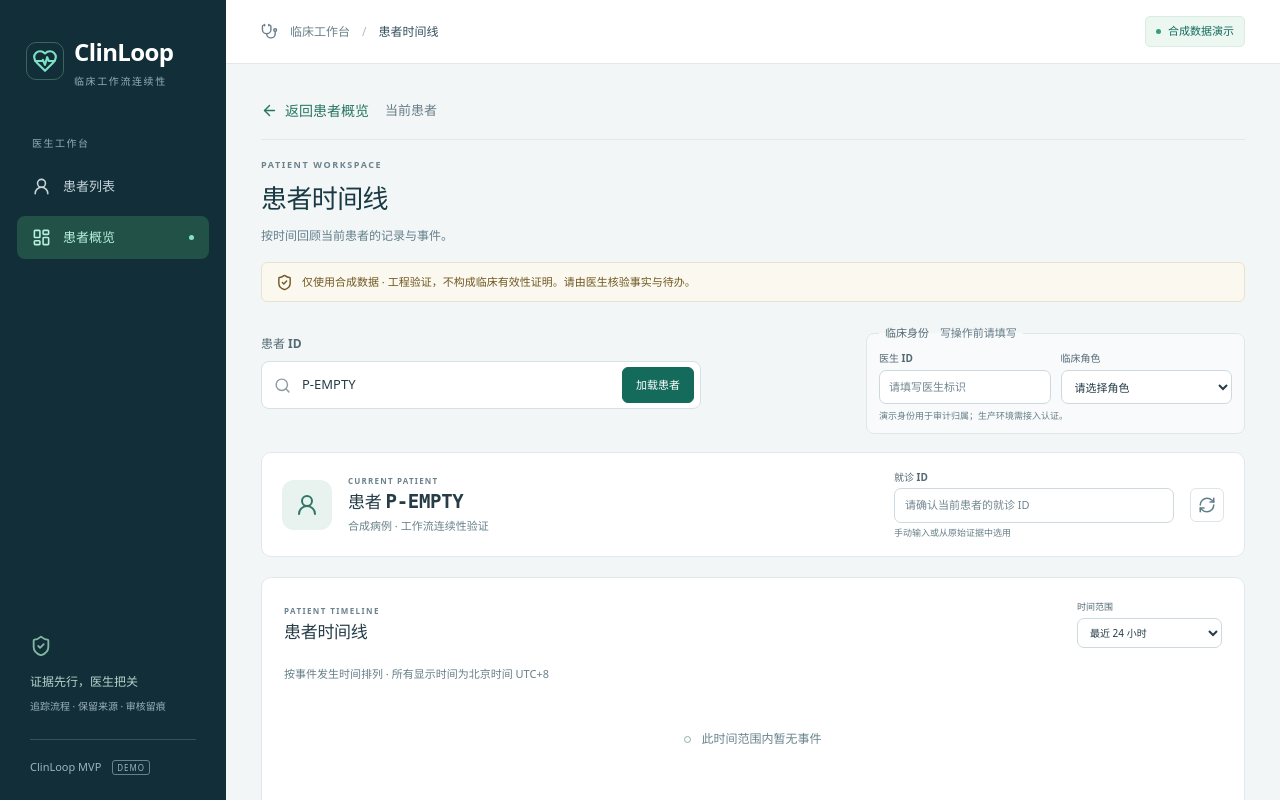
Test: doctor workspace › reads patient from query and renders empty states independently
Expected: the field labelled "患者 ID" holds "P-EMPTY", left=299, top=368, right=614, bottom=402
Expected: the text "此时间范围内暂无事件" is shown, left=684, top=730, right=822, bottom=747
Click the button "返回患者概览": (315, 111) left=261, top=96, right=369, bottom=125
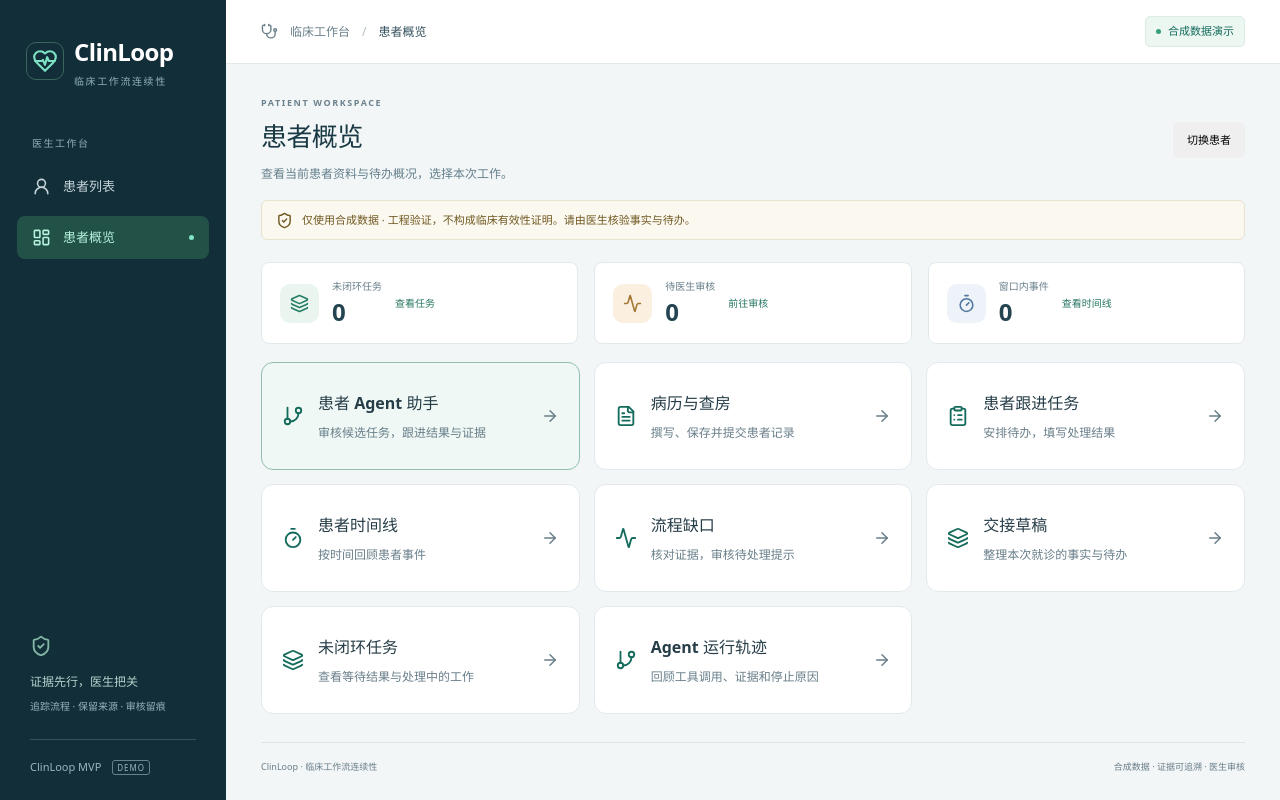
Click the button "未闭环任务 查看等待结果与处理中的工作": (358, 647) left=261, top=606, right=580, bottom=714
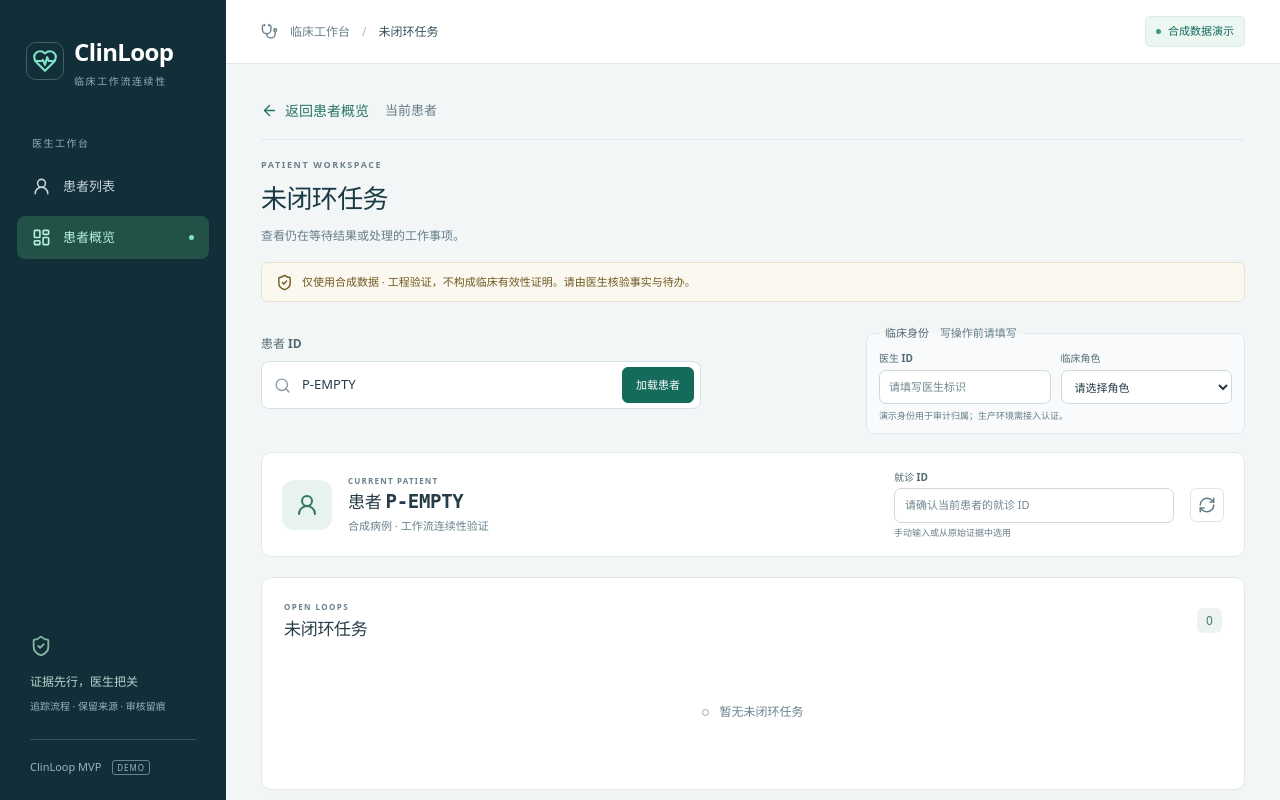
Now the text "暂无未闭环任务" is shown, box left=702, top=703, right=804, bottom=720
Click the button "返回患者概览": (315, 111) left=261, top=96, right=369, bottom=125
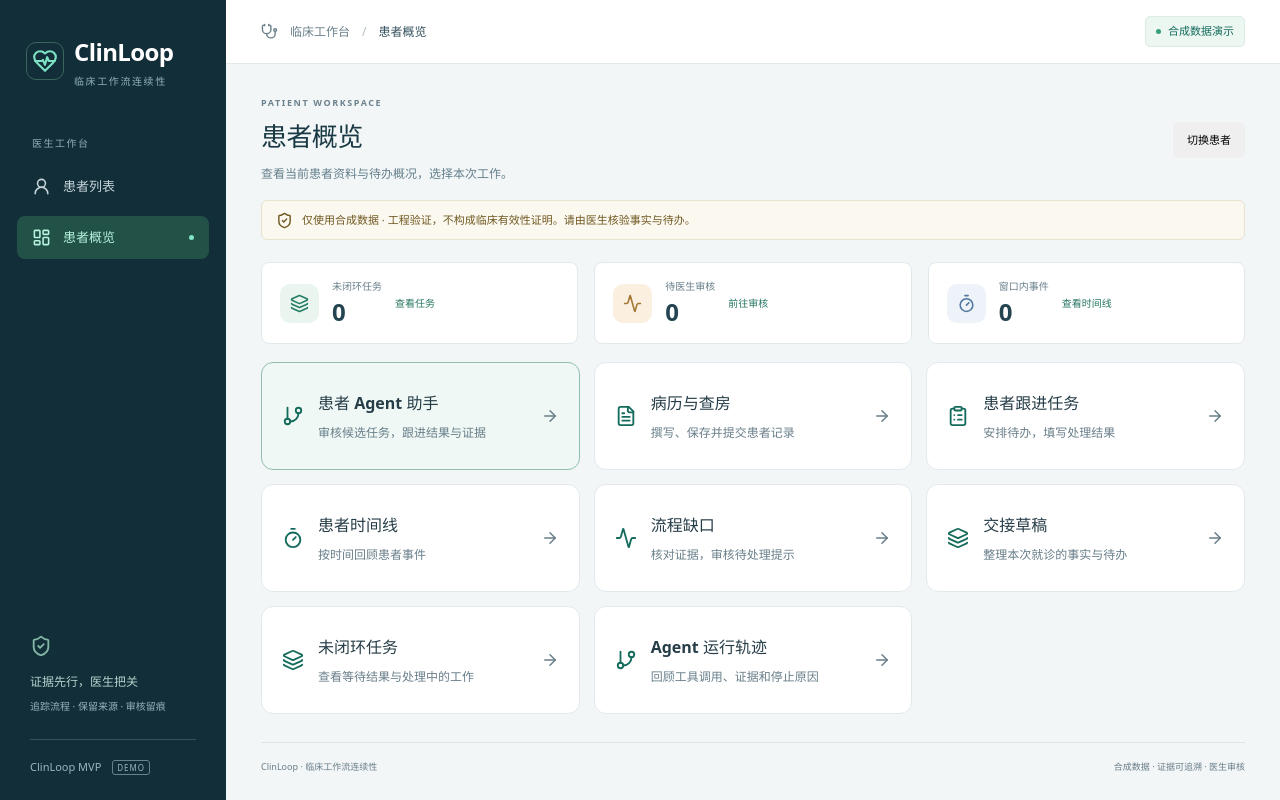
Click the button "流程缺口 核对证据，审核待处理提示": (683, 525) left=594, top=484, right=912, bottom=592
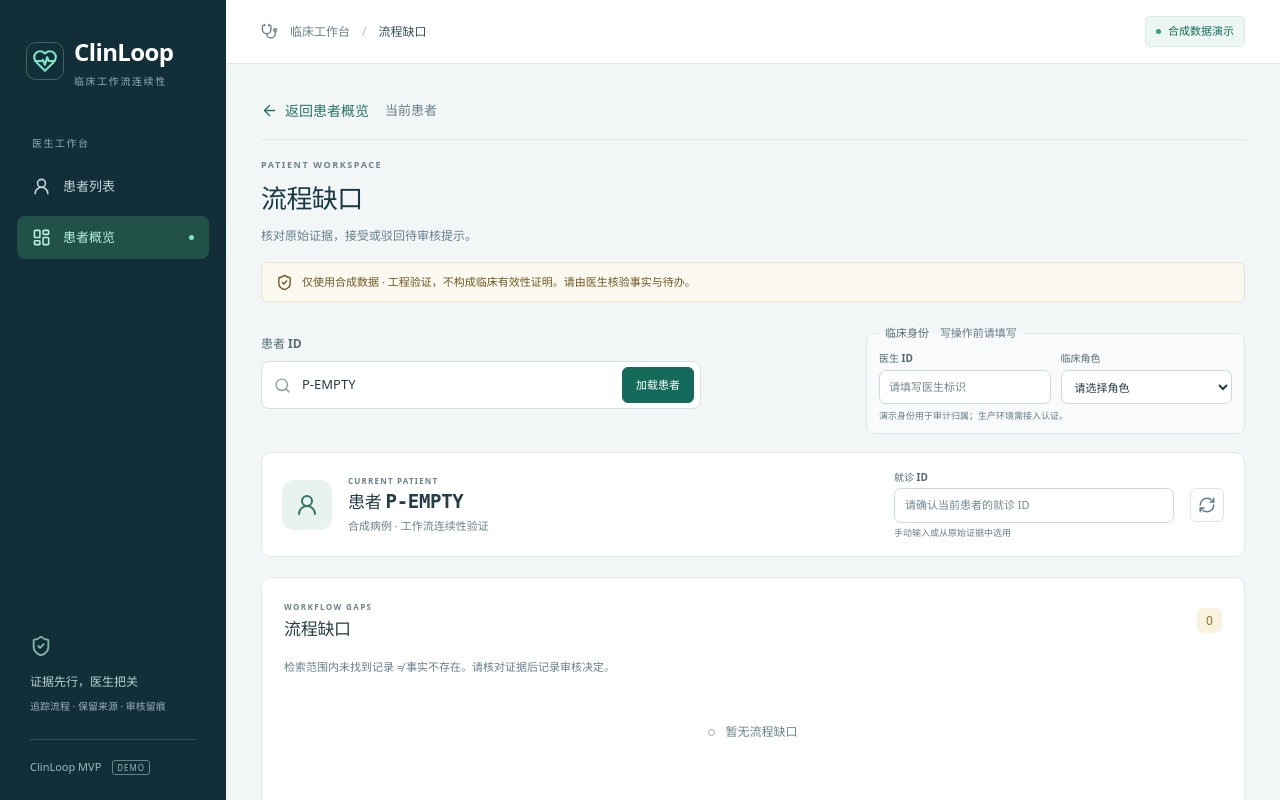
Now the text "暂无流程缺口" is shown, box left=708, top=723, right=798, bottom=740
